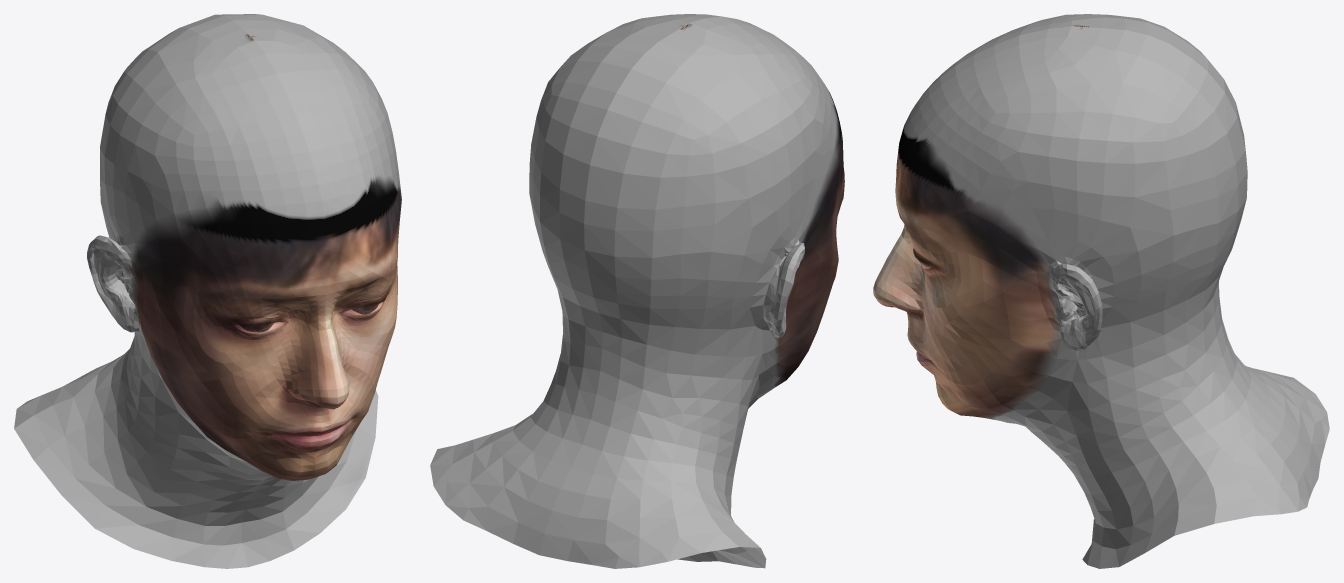
Rendered from KakaoTalk_20240602_131127979-align-project.obj.
3 renders of one model, left to right at view 1: azimuth 30°, elevation 25°; view 2: azimuth 150°, elevation 25°; view 3: azimuth 270°, elevation 25°, orthographic. The views are drawn at different scales.
Size of the model in its own units: 0.209 by 0.3248 by 0.2576.
Materials: 1 (1 with a texture image).
